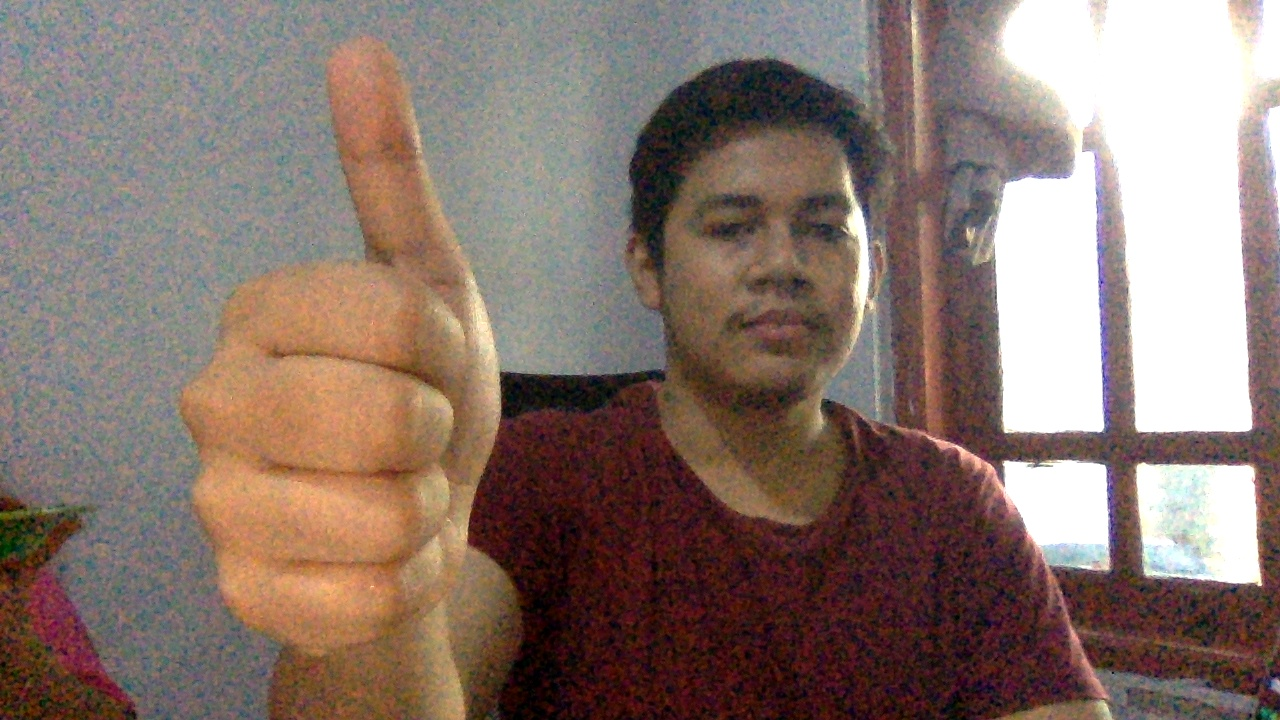thumbsup: (176, 11, 484, 670)
